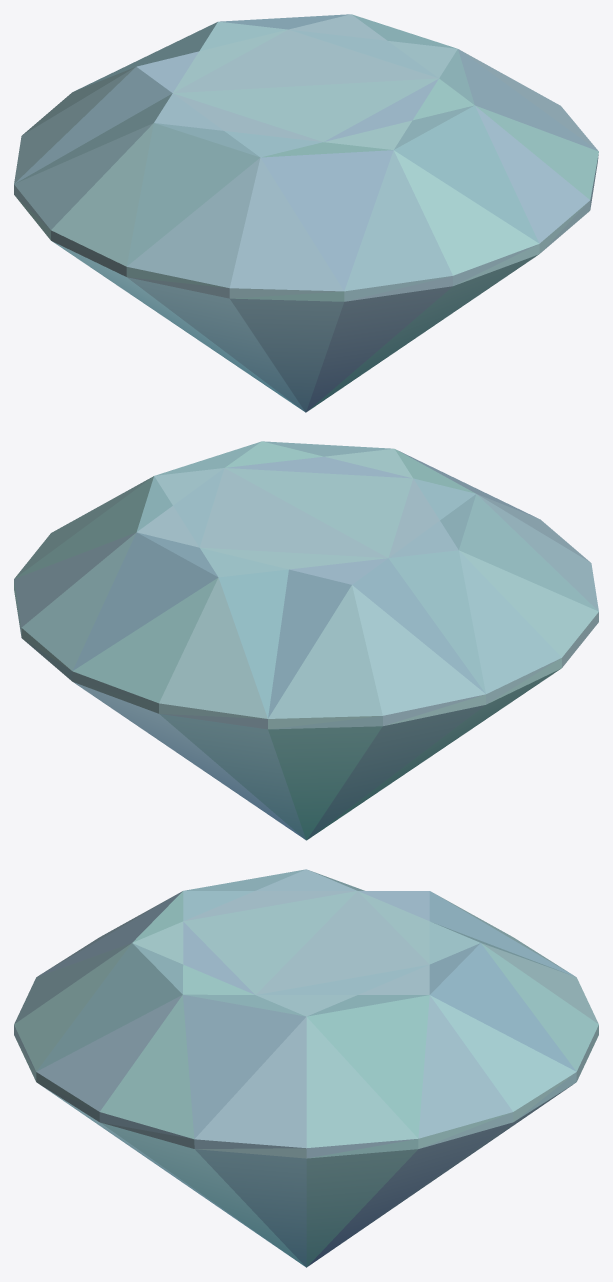
The model's file is geology-crystals-diamond_v8.fbx.
3 views of the same model, one above another, from view 1: azimuth 30°, elevation 25°; view 2: azimuth 150°, elevation 25°; view 3: azimuth 270°, elevation 25° (orthographic).
Visible parts, largest first — view 1: Diamond_v8; view 2: Diamond_v8; view 3: Diamond_v8.
Part boxes in pixels (left/top/right/bottom): Diamond_v8: left=14, top=14, right=598, bottom=412; Diamond_v8: left=14, top=441, right=598, bottom=840; Diamond_v8: left=14, top=869, right=598, bottom=1267.
Bounding box in the file's own units: 0.9188 × 0.5628 × 0.9188.
